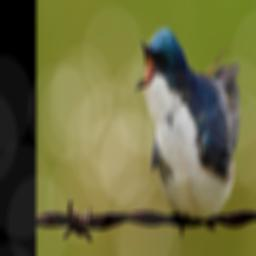Swallow: (132, 21, 241, 235)
